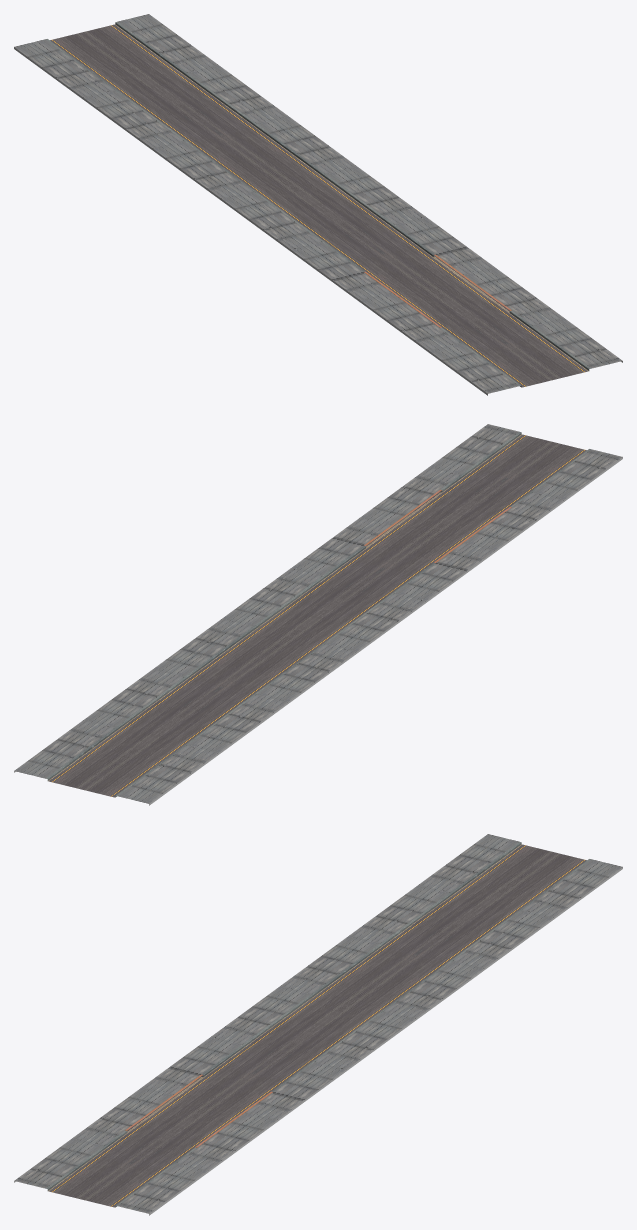
The model's file is StraightRoad.obj.
3 renders of one model, top to bottom at view 1: azimuth 30°, elevation 25°; view 2: azimuth 150°, elevation 25°; view 3: azimuth 330°, elevation 25°, orthographic.
Visible parts, largest first — view 1: Plane.013; view 2: Plane.013; view 3: Plane.013.
Part boxes in pixels (x1,y1,x2,y2): Plane.013: (14, 14, 622, 395); Plane.013: (14, 424, 622, 805); Plane.013: (14, 834, 622, 1215).
Bounding box in the file's own units: 29.83 × 0.5319 × 181.
